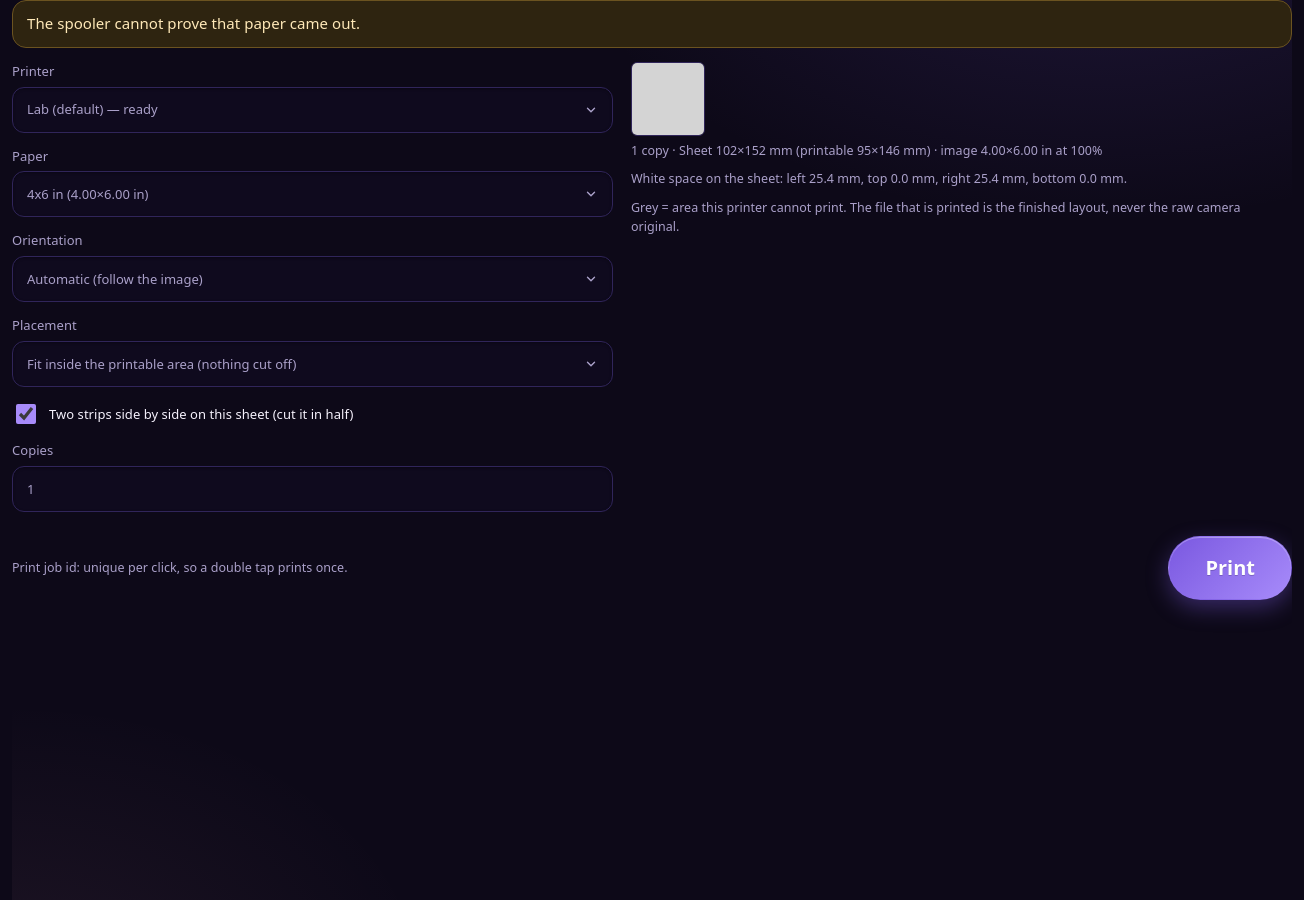
Test: PrintPanel › offers two strips on one 4x6 sheet, shows that sheet in the preview and sends the choice with the job
Expected: the text "image 4.00×6.00 in" is shown, x1=631 y1=142 x2=1102 y2=158
Expected: the checkbox labelled "Two strips side by side on this sheet (cut it in half)" is checked, x1=16 y1=404 x2=36 y2=424
Click the button "Print" at (1230, 568), box x1=1168 y1=536 x2=1292 y2=600
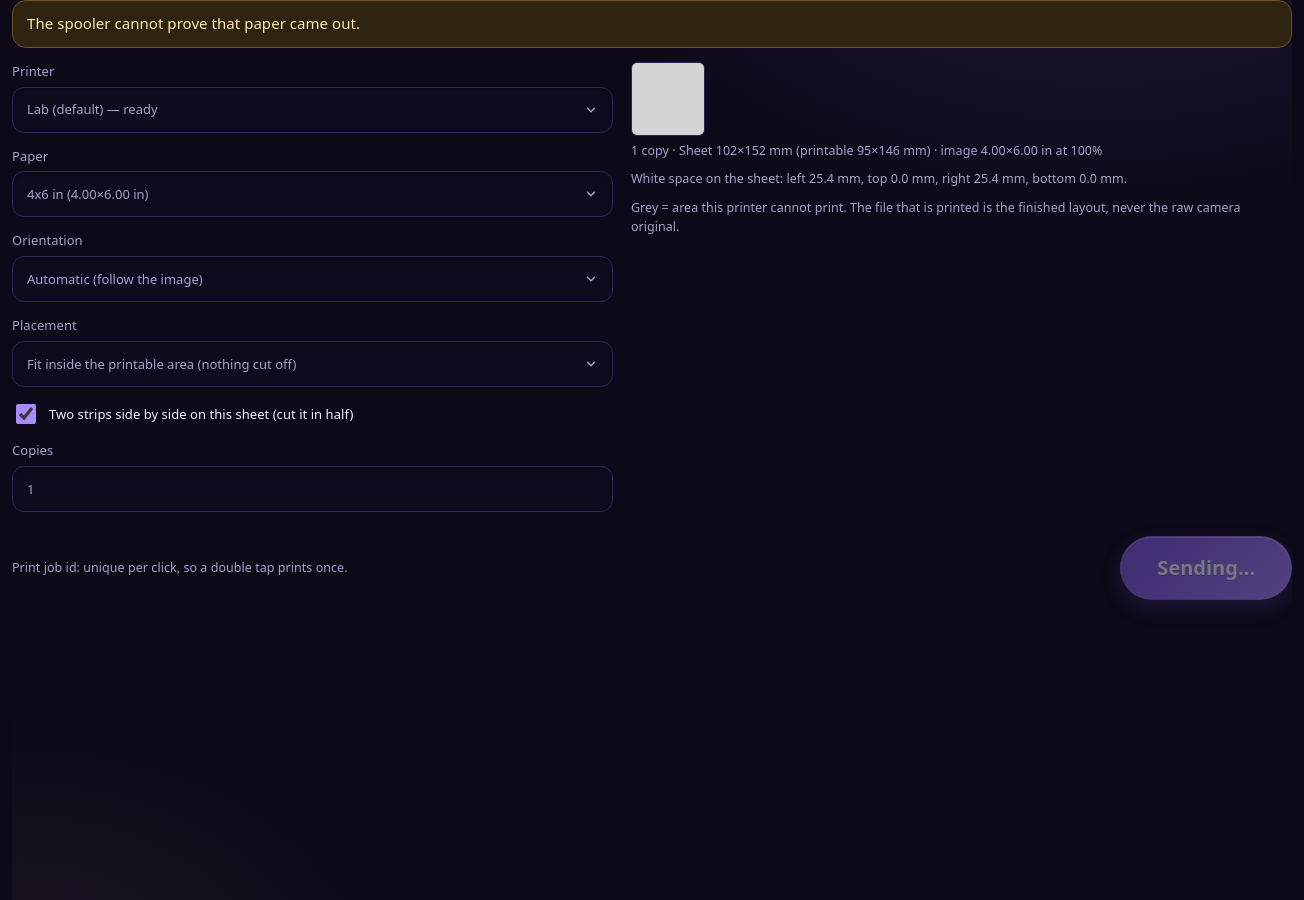
Click the checkbox labelled "Two strips side by side on this sheet (cut it in half)" at (26, 414), box x1=16 y1=404 x2=36 y2=424
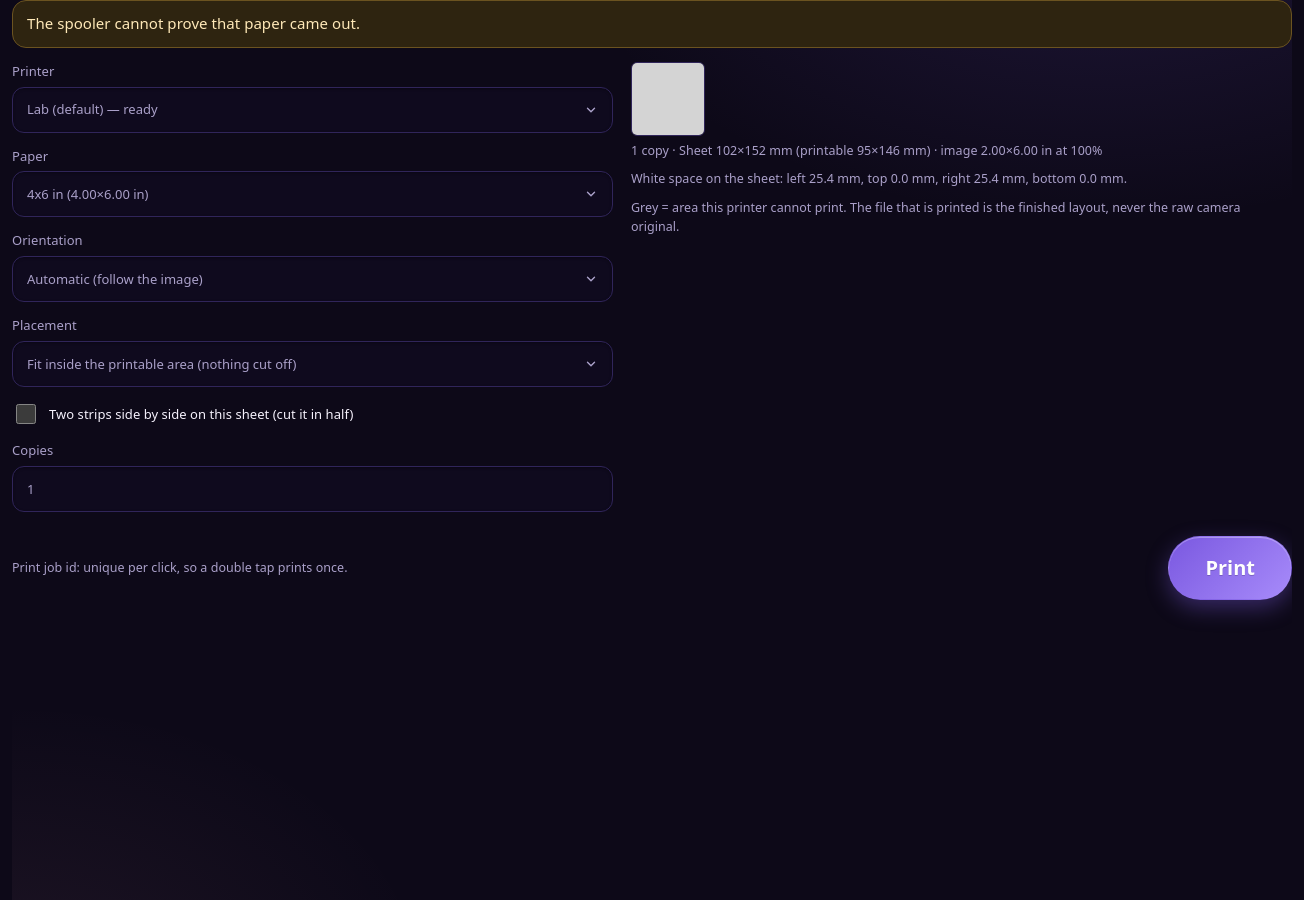
Now the text "image 2.00×6.00 in" is shown, box x1=631 y1=142 x2=1102 y2=158
